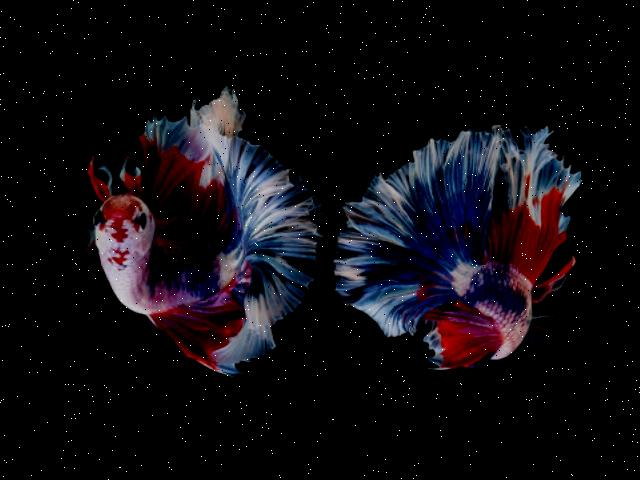Mulut: (91, 182, 149, 230)
